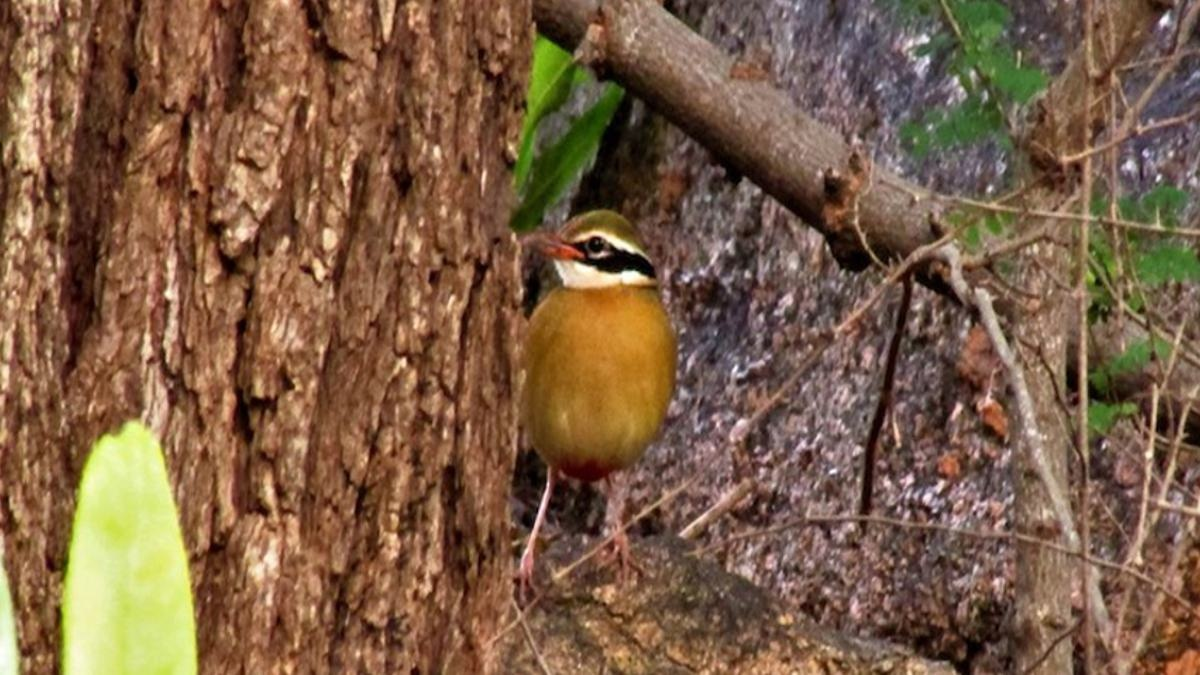pitta: (504, 197, 710, 594)
